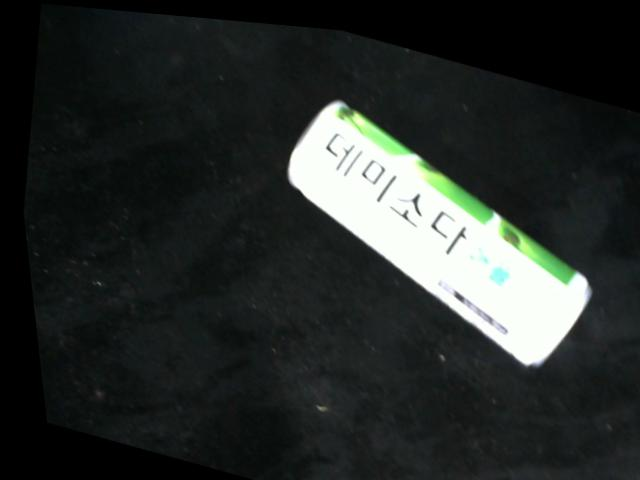can: (282, 91, 589, 362)
